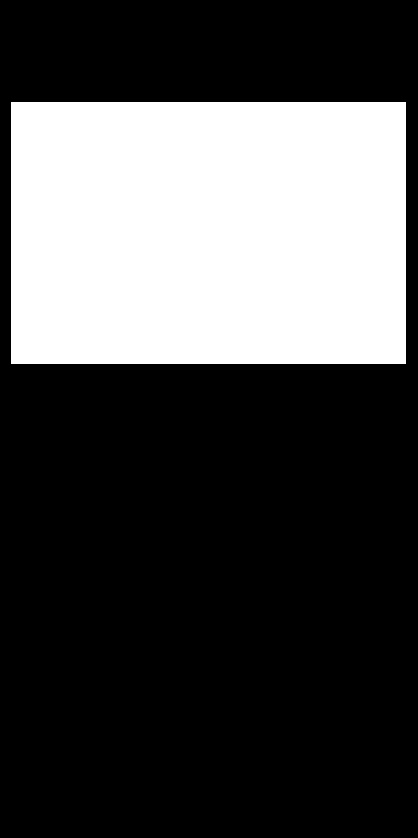table: (11, 102, 405, 363)
